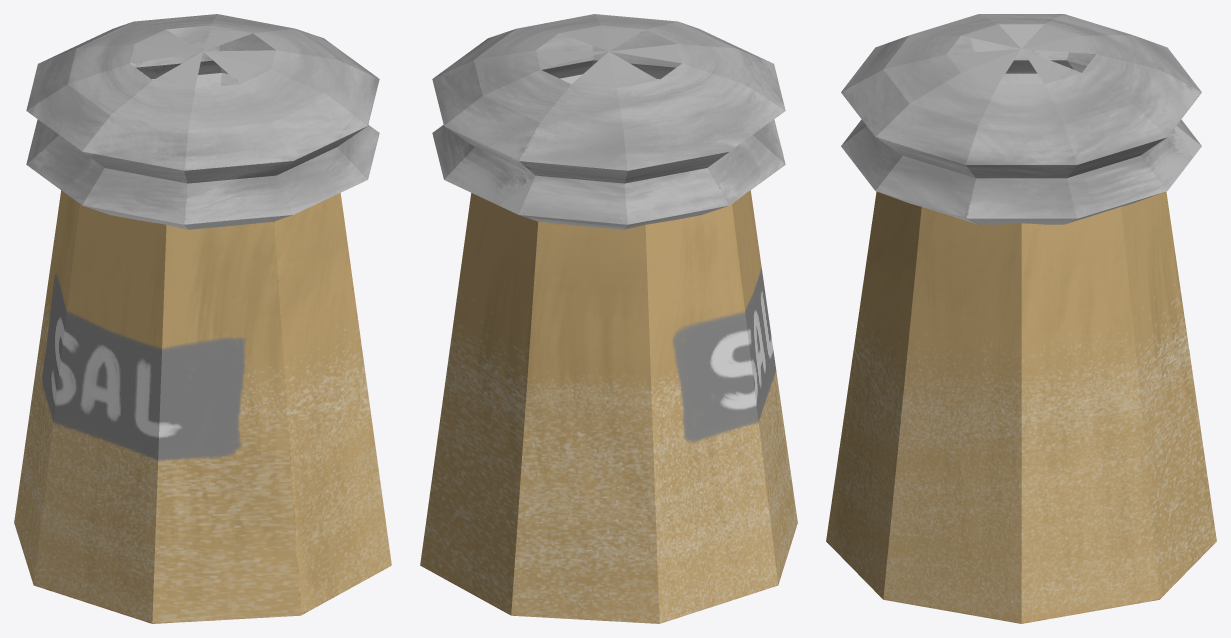
Rendered from SALERO 02.fbx.
3 views of the same model, side by side, from view 1: azimuth 30°, elevation 25°; view 2: azimuth 150°, elevation 25°; view 3: azimuth 270°, elevation 25° (orthographic).
Visible parts, largest first — view 1: Cylinder, Sphere; view 2: Cylinder, Sphere; view 3: Cylinder, Sphere.
Part boxes in pixels (left/top/right/bottom): Cylinder: left=14, top=190, right=391, bottom=623; Sphere: left=26, top=14, right=379, bottom=229; Cylinder: left=420, top=190, right=797, bottom=623; Sphere: left=432, top=14, right=785, bottom=229; Cylinder: left=826, top=191, right=1216, bottom=623; Sphere: left=841, top=14, right=1201, bottom=224.
Bounding box in the file's own units: 200 × 278 × 200.
Materials: 1 (1 with a texture image).
